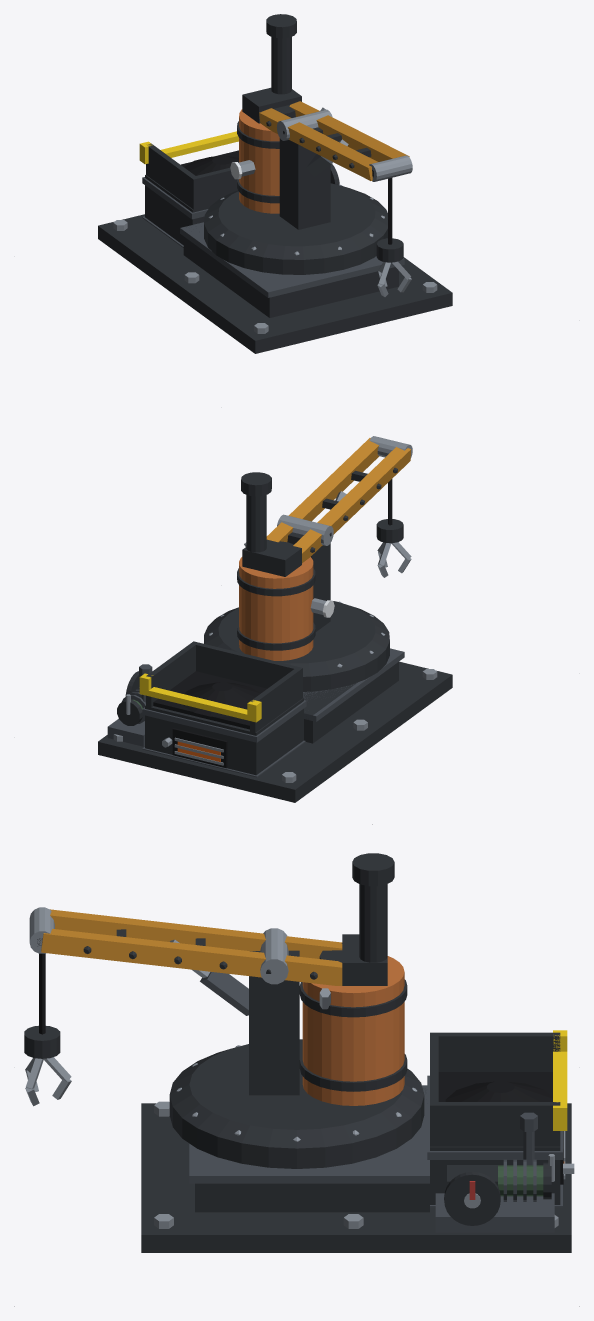
Rendered from bras_t1.glb.
3 views of the same model, one above another, from view 1: azimuth 30°, elevation 25°; view 2: azimuth 150°, elevation 25°; view 3: azimuth 270°, elevation 25° (orthographic). The views are drawn at different scales.
Visible parts, largest first — view 1: socle_fonte.002, tourelle_plateau.002, tourelle_fonte.002, tourelle_orange.002, socle_acier_sombre.006, tourelle_cuivre.002, tourelle_acier.006, socle_rive_t1.002, charbon_tremie.002, socle_acier.006; view 2: socle_fonte.002, tourelle_fonte.002, tourelle_plateau.002, tourelle_cuivre.002, tourelle_orange.002, socle_acier_sombre.006, socle_noir.006, tourelle_acier.006, socle_rive_t1.002, charbon_tremie.002, socle_acier.006; view 3: socle_fonte.002, tourelle_plateau.002, tourelle_fonte.002, socle_acier_sombre.006, tourelle_orange.002, tourelle_cuivre.002, tourelle_acier.006, volant_fonte.002, socle_noir.006, charbon_tremie.002, socle_rive_t1.002, socle_acier.006 (+2 smaller).
Part boxes in pixels (bbox=[...]): socle_fonte.002: bbox=[98, 143, 452, 353]; tourelle_plateau.002: bbox=[204, 183, 387, 274]; tourelle_fonte.002: bbox=[237, 14, 403, 262]; tourelle_orange.002: bbox=[259, 101, 409, 180]; socle_acier_sombre.006: bbox=[142, 177, 404, 297]; tourelle_cuivre.002: bbox=[239, 109, 279, 213]; tourelle_acier.006: bbox=[208, 107, 412, 296]; socle_rive_t1.002: bbox=[139, 131, 238, 164]; charbon_tremie.002: bbox=[184, 156, 238, 175]; socle_acier.006: bbox=[113, 220, 437, 333]; socle_fonte.002: bbox=[98, 641, 452, 802]; tourelle_fonte.002: bbox=[237, 467, 403, 650]; tourelle_plateau.002: bbox=[204, 601, 389, 691]; tourelle_cuivre.002: bbox=[239, 557, 313, 660]; tourelle_orange.002: bbox=[266, 438, 410, 563]; socle_acier_sombre.006: bbox=[107, 648, 404, 777]; socle_noir.006: bbox=[153, 671, 266, 768]; tourelle_acier.006: bbox=[209, 436, 412, 667]; socle_rive_t1.002: bbox=[139, 673, 261, 722]; charbon_tremie.002: bbox=[183, 682, 260, 717]; socle_acier.006: bbox=[113, 669, 437, 782]; socle_fonte.002: bbox=[141, 1032, 571, 1252]; tourelle_plateau.002: bbox=[169, 1039, 424, 1168]; tourelle_fonte.002: bbox=[24, 853, 407, 1095]; socle_acier_sombre.006: bbox=[189, 1075, 562, 1232]; tourelle_orange.002: bbox=[41, 909, 342, 985]; tourelle_cuivre.002: bbox=[302, 956, 404, 1105]; tourelle_acier.006: bbox=[25, 907, 417, 1141]; volant_fonte.002: bbox=[444, 1171, 500, 1225]; socle_noir.006: bbox=[438, 1072, 563, 1184]; charbon_tremie.002: bbox=[445, 1081, 552, 1101]; socle_rive_t1.002: bbox=[553, 1030, 567, 1130]; socle_acier.006: bbox=[154, 1101, 574, 1228].
Bounding box in the file's own units: 1 × 0.65 × 1.
